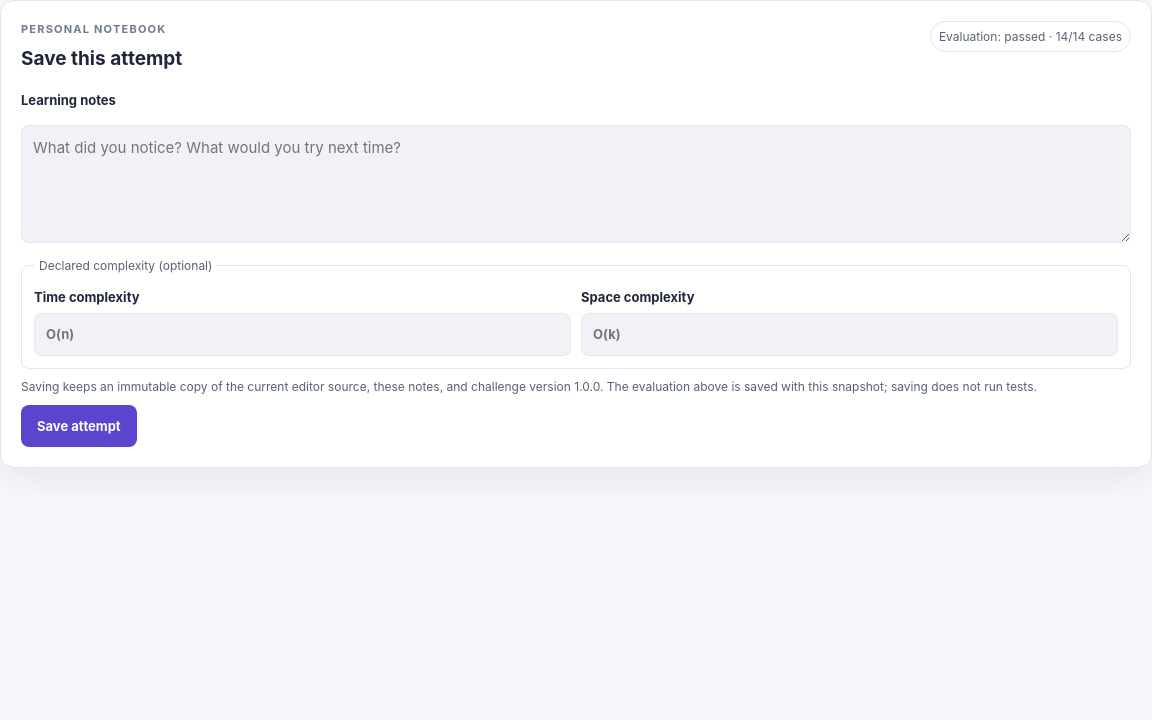
Test: AttemptSubmissionPanel › captures a detached evaluation/source/notes snapshot and reports the actual saved summary
Type "snapshot notes" into the text box labelled "Learning notes" at point(576, 184), box [21,125,1131,243]
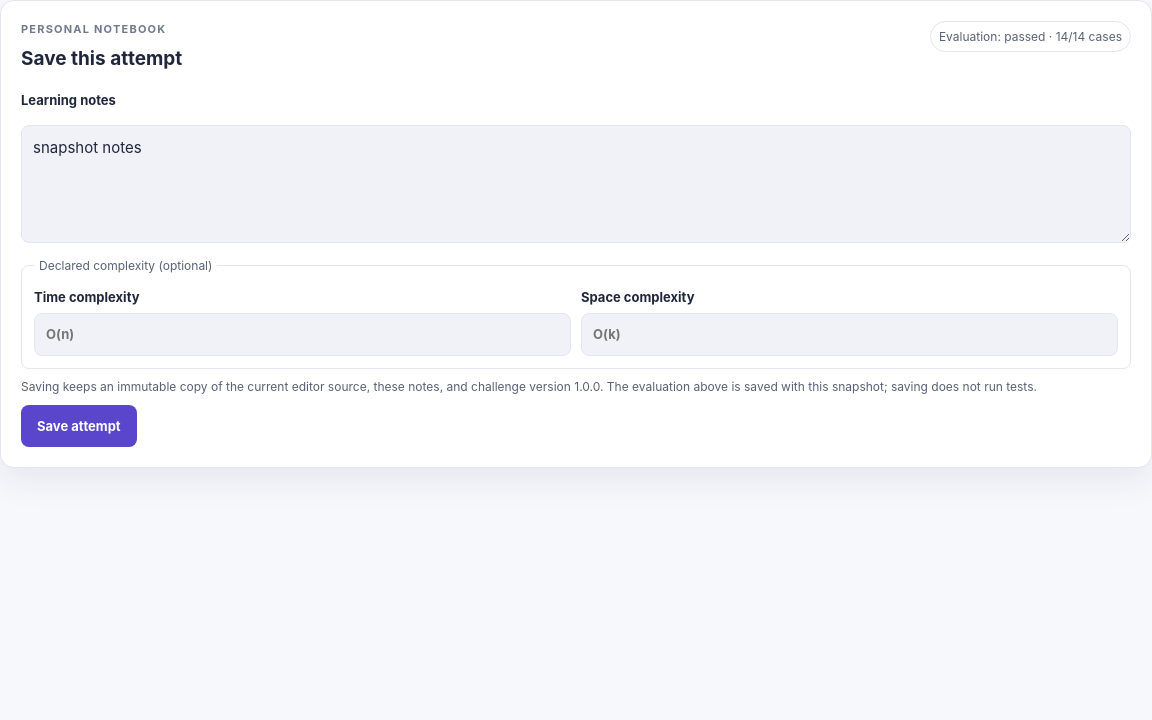
Submit the form, box [21,90,1131,447]
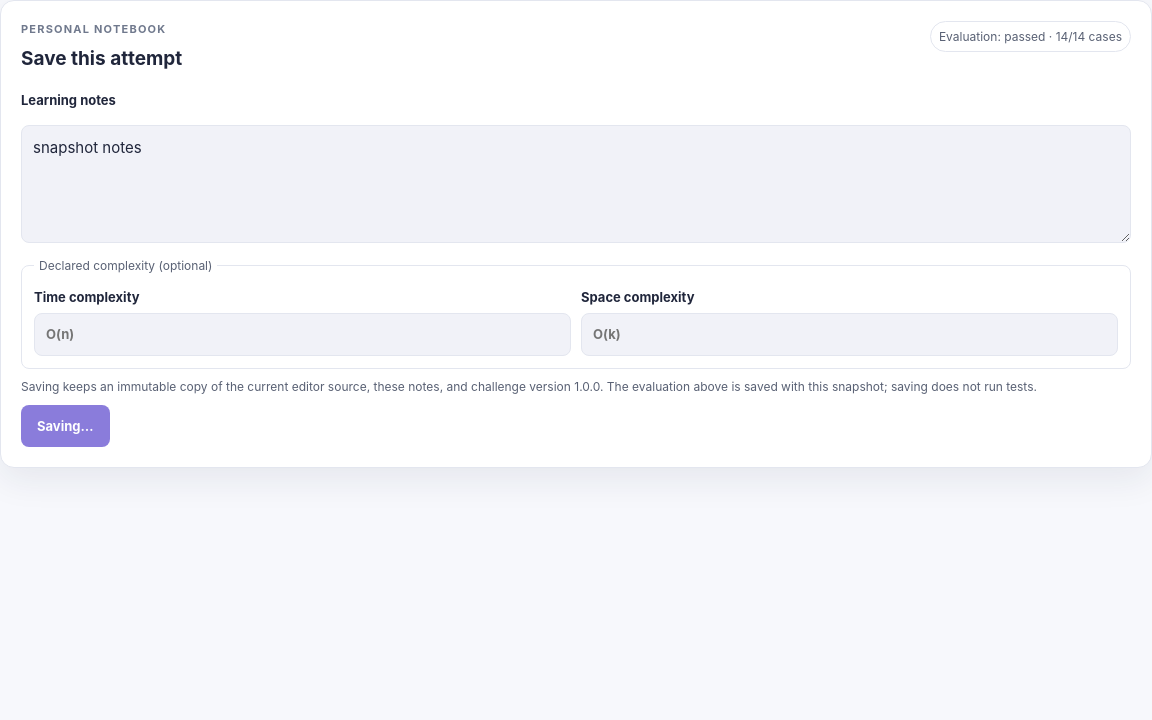
Submit the form, box [21,90,1131,447]
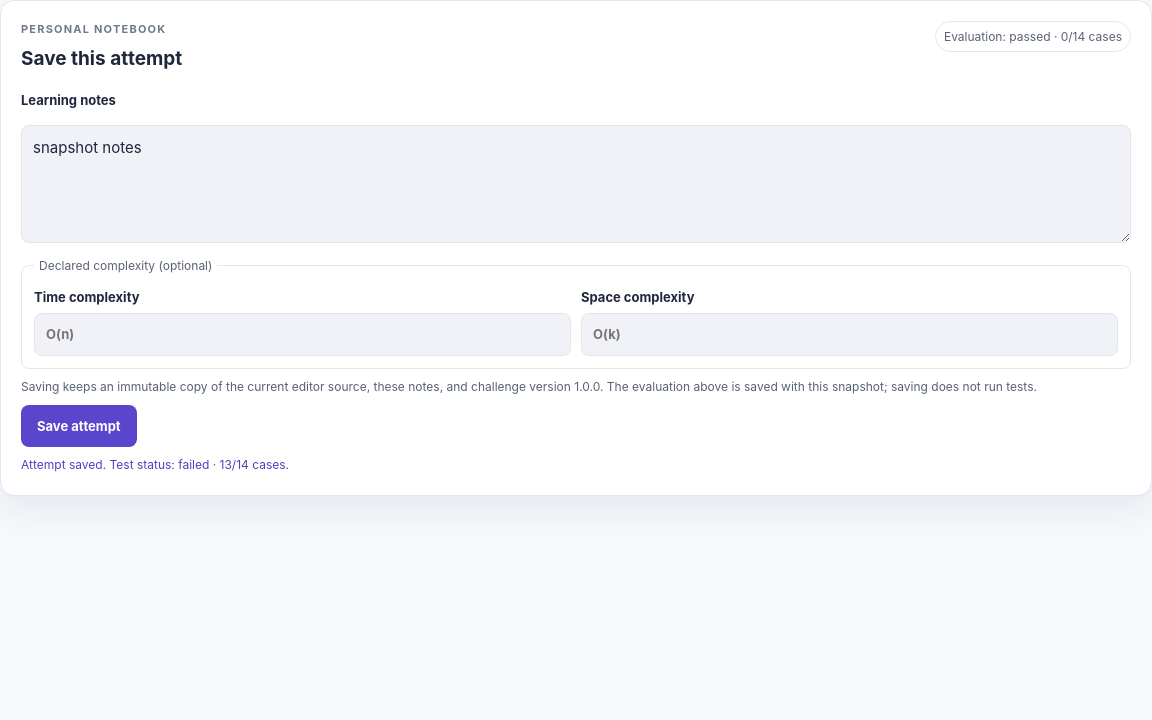
Now the message "Attempt saved. Test status: failed · 13/14 cases." is shown, box [21,457,289,472]
